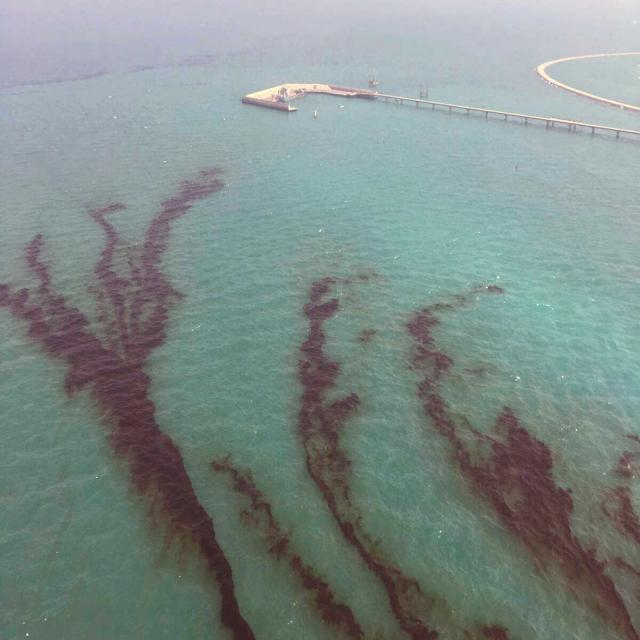truecolor: (0, 170, 254, 640), (407, 305, 640, 639), (298, 277, 459, 640), (211, 456, 365, 640)
